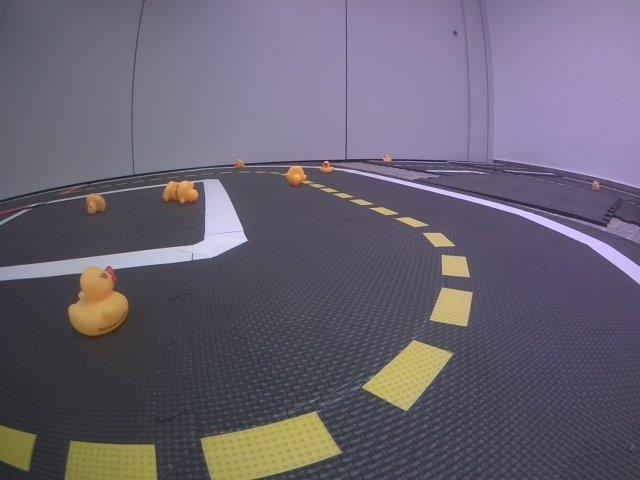duckie: (65, 266, 129, 338), (178, 180, 198, 204), (284, 166, 307, 186), (85, 194, 107, 214), (162, 181, 178, 202)
